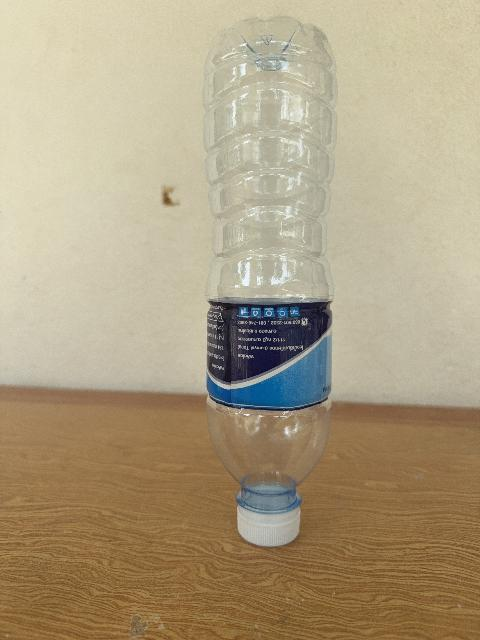bottle: (204, 17, 336, 546)
